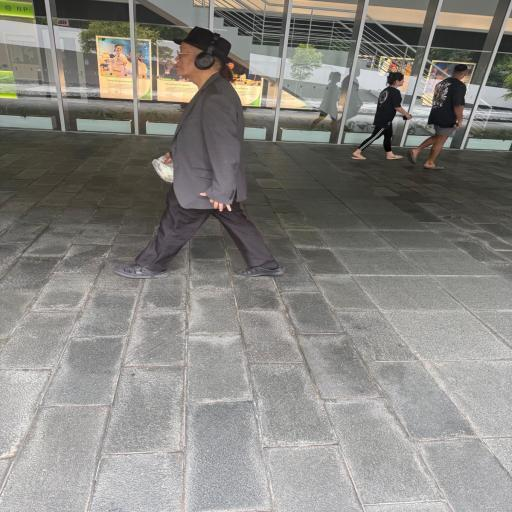person_left: (114, 26, 286, 279)
person_right: (408, 64, 468, 170), (350, 71, 412, 160)
